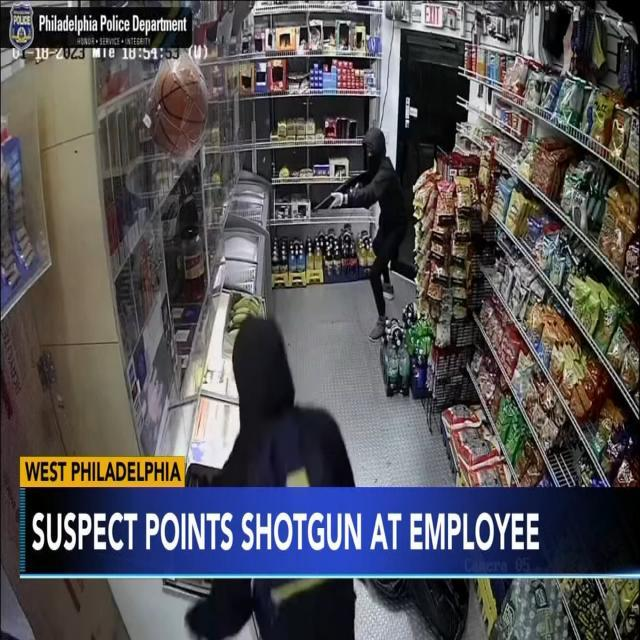weapon: (308, 170, 366, 213)
